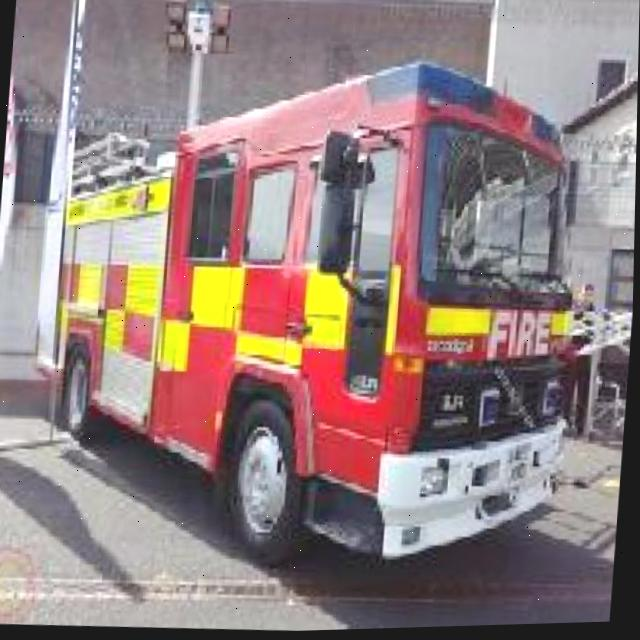emergency: (33, 37, 616, 590)
